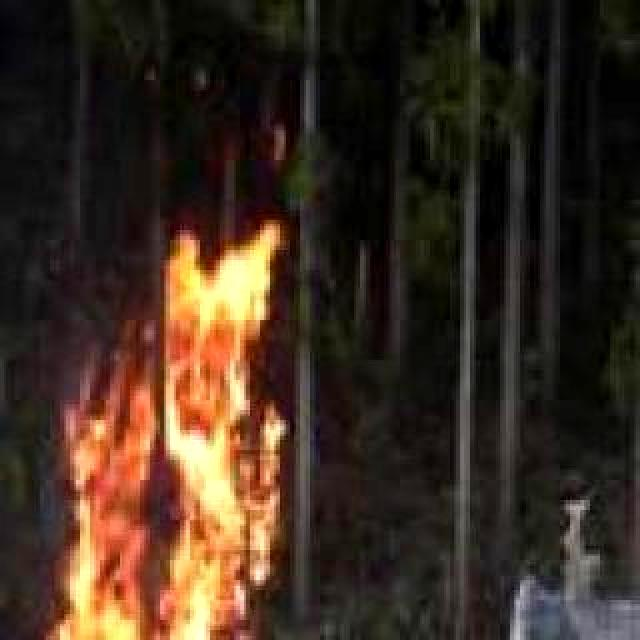fire: (32, 222, 322, 640)
